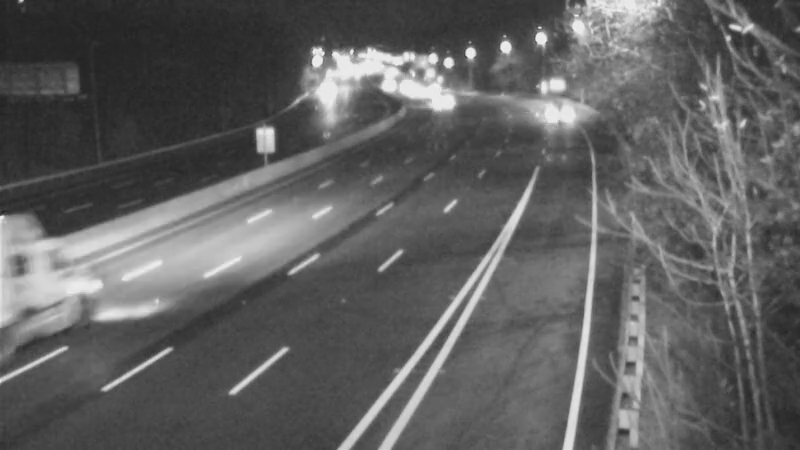vehicle: (416, 78, 466, 128), (529, 85, 579, 135)
